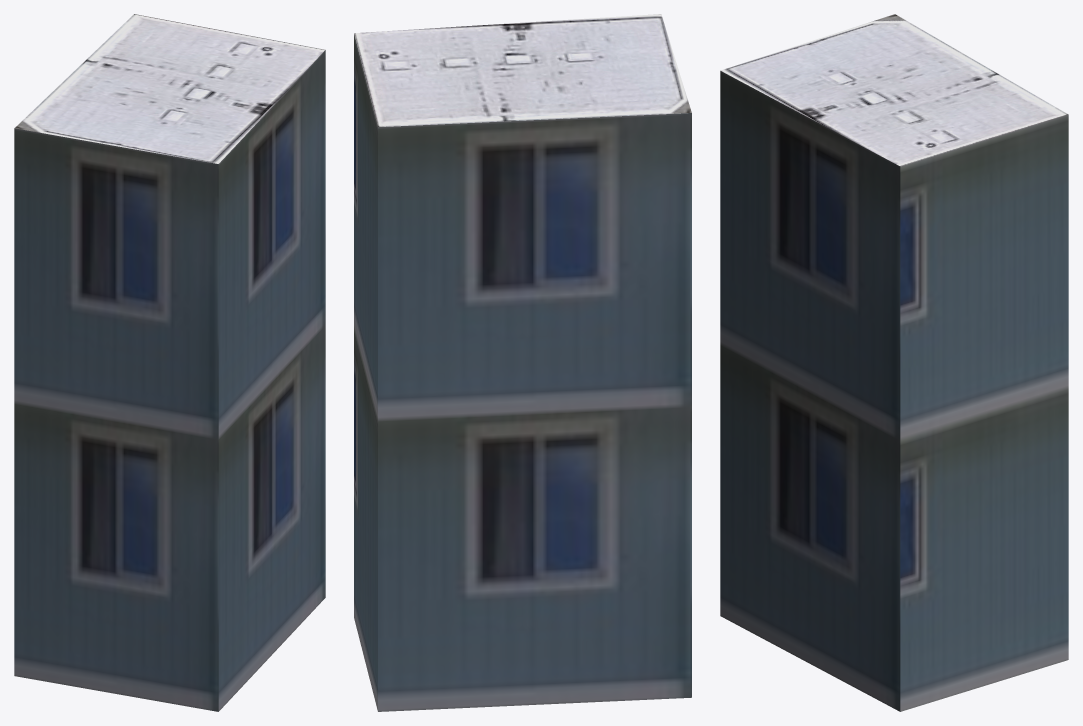
Rendered from RelTex__15.fbx.
The picture shows the model from 3 angles, left to right: view 1: azimuth 30°, elevation 25°; view 2: azimuth 150°, elevation 25°; view 3: azimuth 270°, elevation 25°; orthographic projection. The views are drawn at different scales.
Parts seen in each view (by area): view 1: CityEngineMaterial_3_m, CityEngineMaterial_24_m; view 2: CityEngineMaterial_3_m, CityEngineMaterial_24_m; view 3: CityEngineMaterial_3_m, CityEngineMaterial_24_m.
Boxes of the visible parts, bbox=[...] form: CityEngineMaterial_3_m: bbox=[14, 50, 325, 711]; CityEngineMaterial_24_m: bbox=[14, 14, 325, 163]; CityEngineMaterial_3_m: bbox=[354, 34, 691, 711]; CityEngineMaterial_24_m: bbox=[354, 14, 691, 127]; CityEngineMaterial_3_m: bbox=[720, 71, 1068, 711]; CityEngineMaterial_24_m: bbox=[720, 14, 1068, 166].
Size of the model in its own units: 3.6 by 6 by 3.47.
2 materials, 2 textured.
